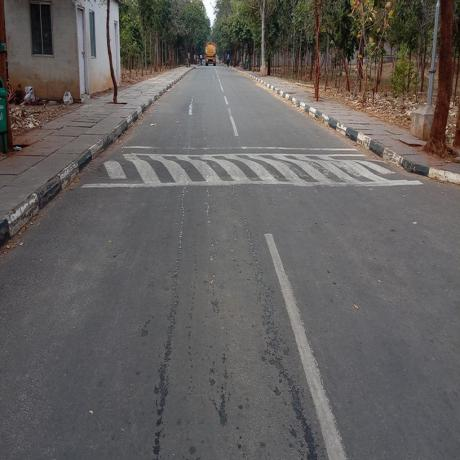Speed Bump: (77, 144, 422, 185)
